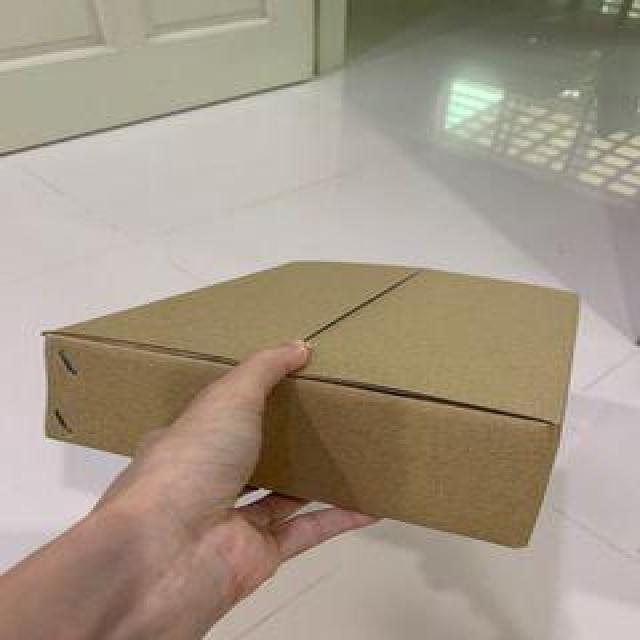cardboard: (40, 254, 584, 551)
